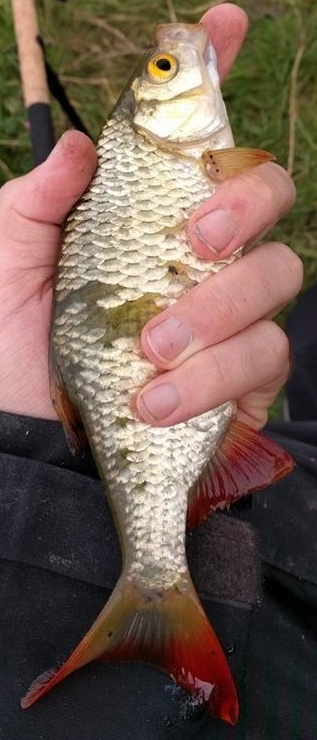Scardinius erythrophthalmus: (20, 20, 297, 720)
